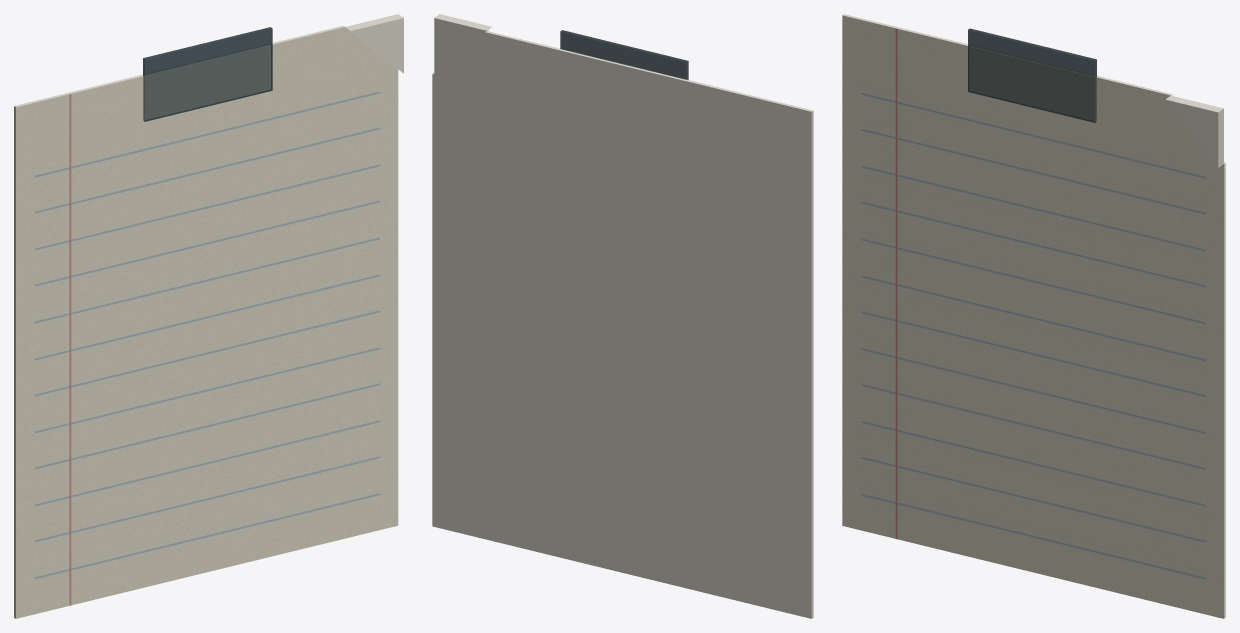
Rendered from paper_note.glb.
The picture shows the model from 3 angles, left to right: view 1: azimuth 30°, elevation 25°; view 2: azimuth 150°, elevation 25°; view 3: azimuth 330°, elevation 25°; orthographic projection.
Visible parts, largest first — view 1: PaperNoteMesh; view 2: PaperNoteMesh; view 3: PaperNoteMesh.
Part boxes in pixels (x1,y1,x2,y2): PaperNoteMesh: (14,14,403,618); PaperNoteMesh: (432,14,813,618); PaperNoteMesh: (842,14,1225,618).
Size of the model in its own units: 0.18 by 0.238 by 0.006.
3 materials, 1 textured.
